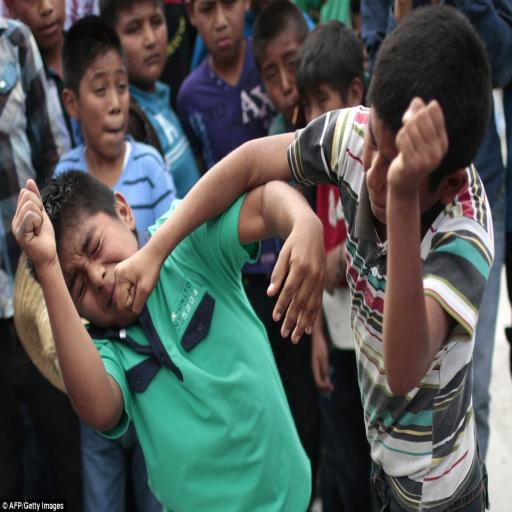fight: (14, 8, 498, 392)
